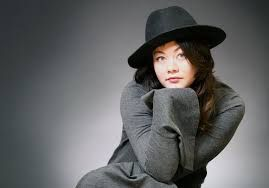no-mask: (140, 36, 229, 93)
